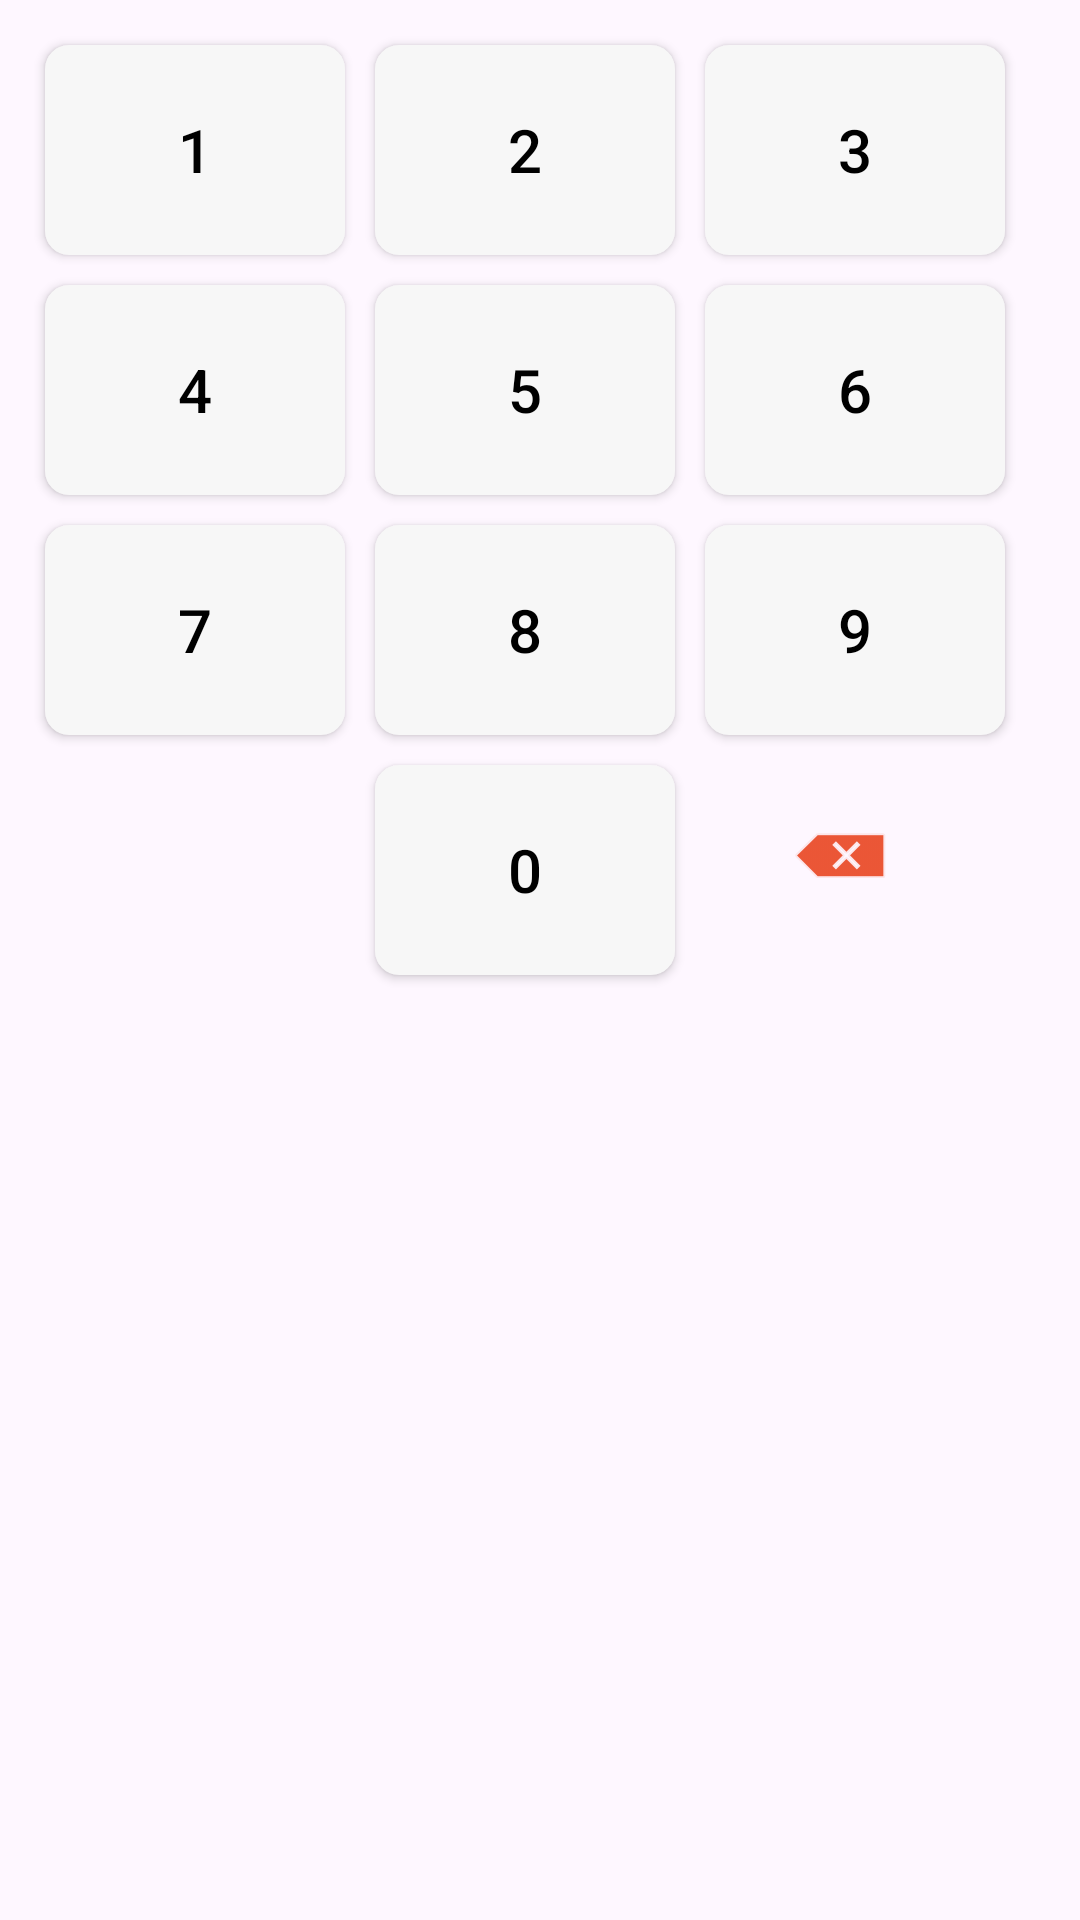

Where icons sit on this 1080 x 1920 app screen, as (x1, y1, x2, y2):
delete: (797, 835, 884, 877)
